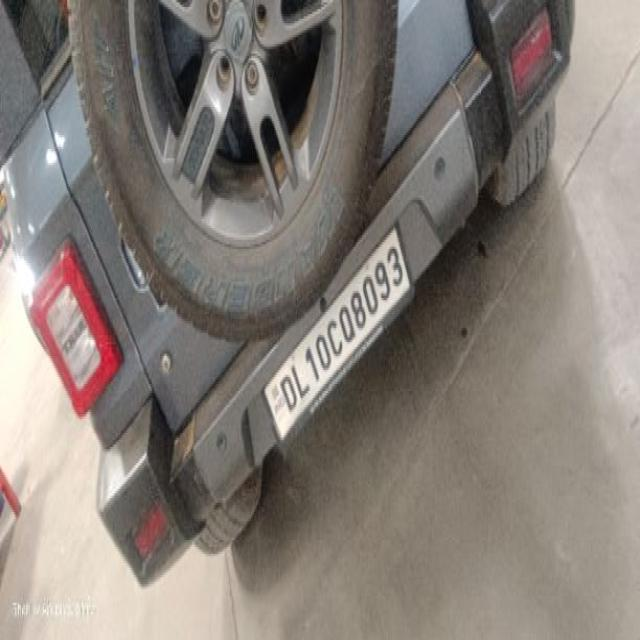license_plate: (262, 221, 414, 445)
